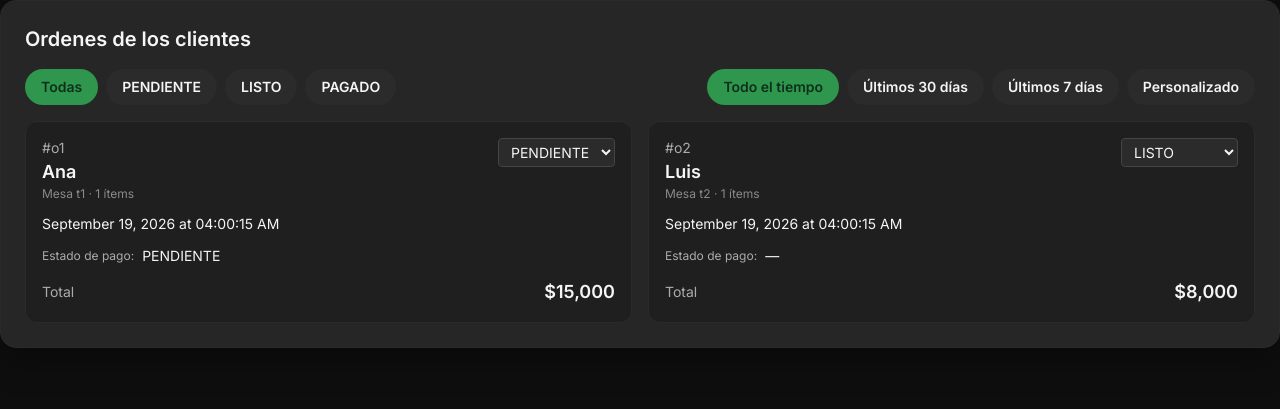
Test case: RecentOrders (dashboard) › filtro de fecha personalizado muestra inputs
Expected: the heading "Ana" is shown, [42,161,76,182]
Click the button "Personalizado": (1191, 87) [1127,69,1255,105]
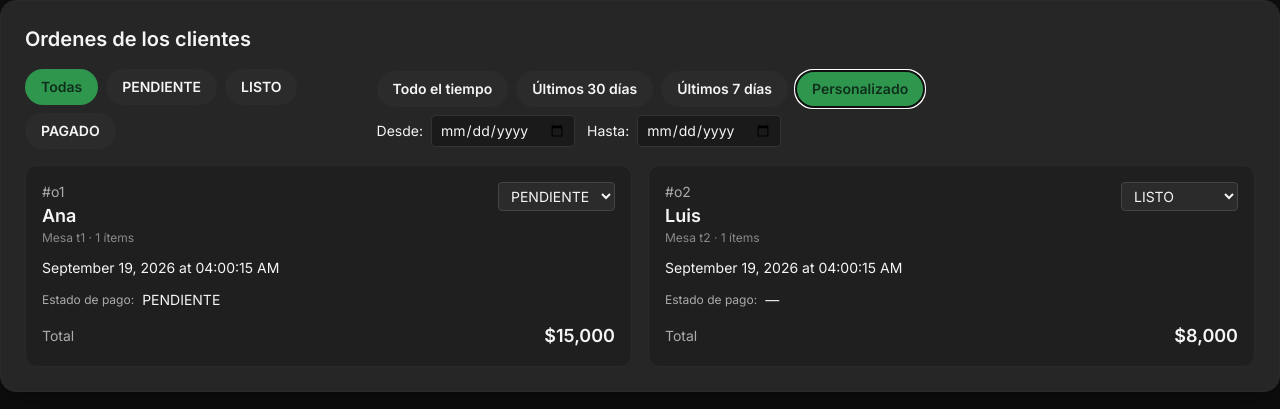
Expected: the number of date fields is 2, [431,115,575,147]; [637,115,781,147]
